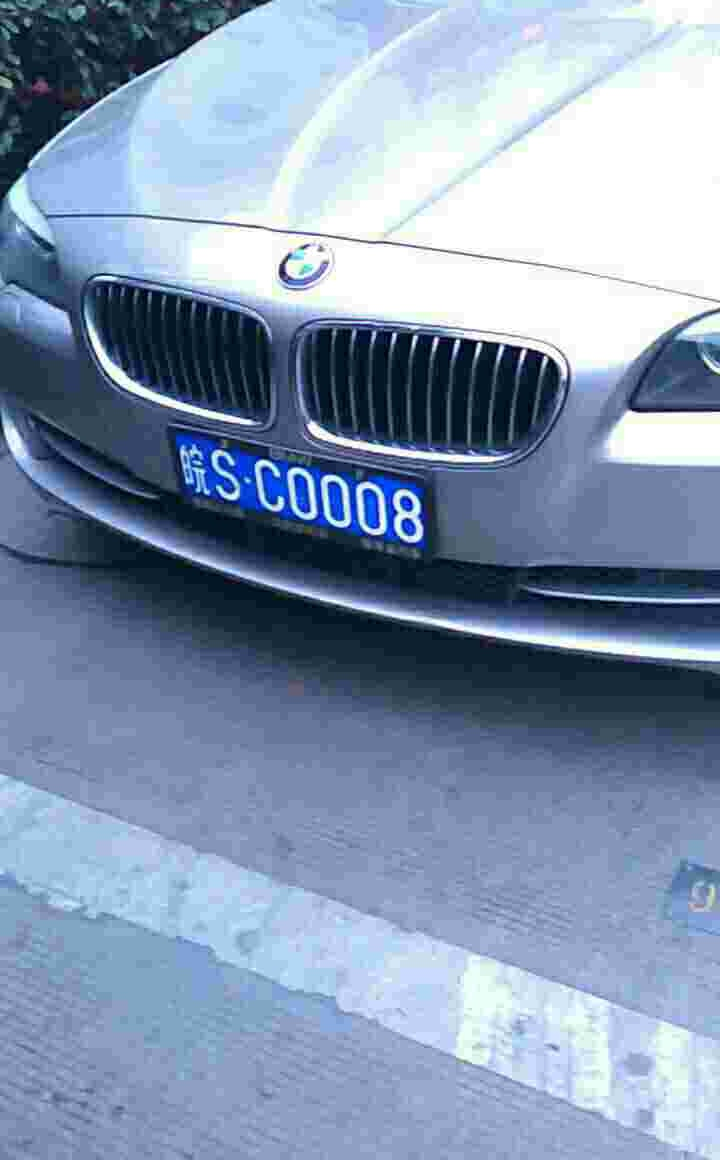license_plate: (182, 435, 430, 551)
